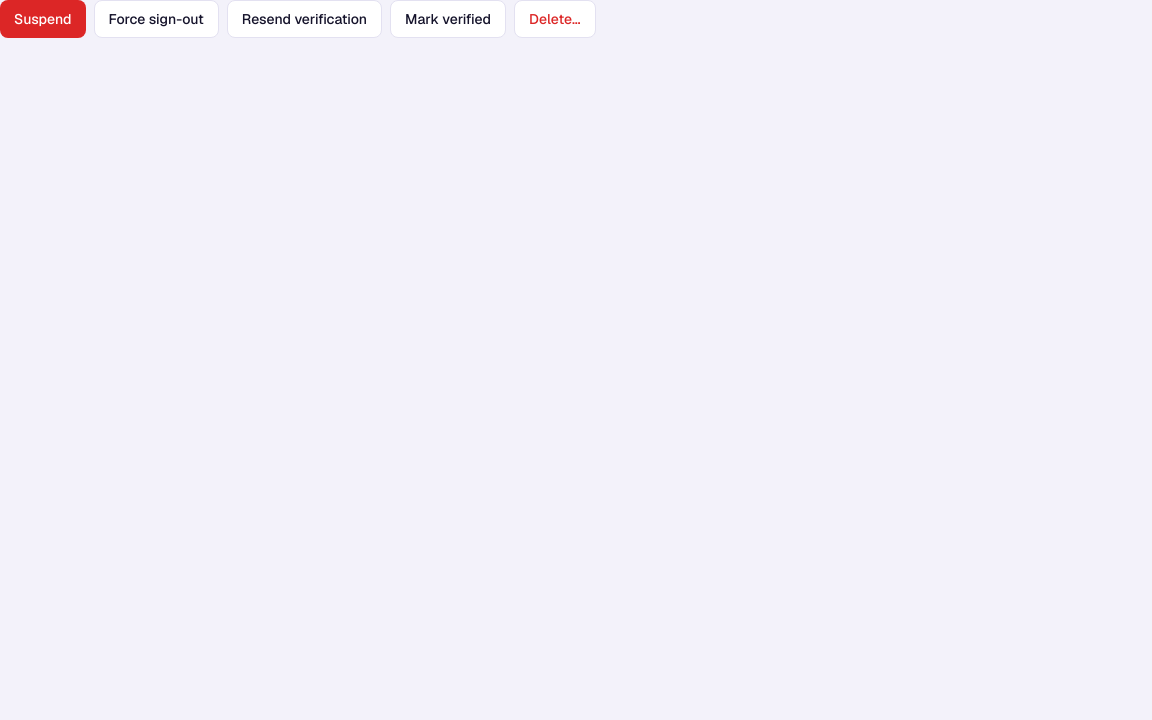
user actions › suspending needs a reason, which is sent with the request
The width and height of the screenshot is (1152, 720).
Click the button "Suspend".
click(43, 19)  # box [0,0,86,38]
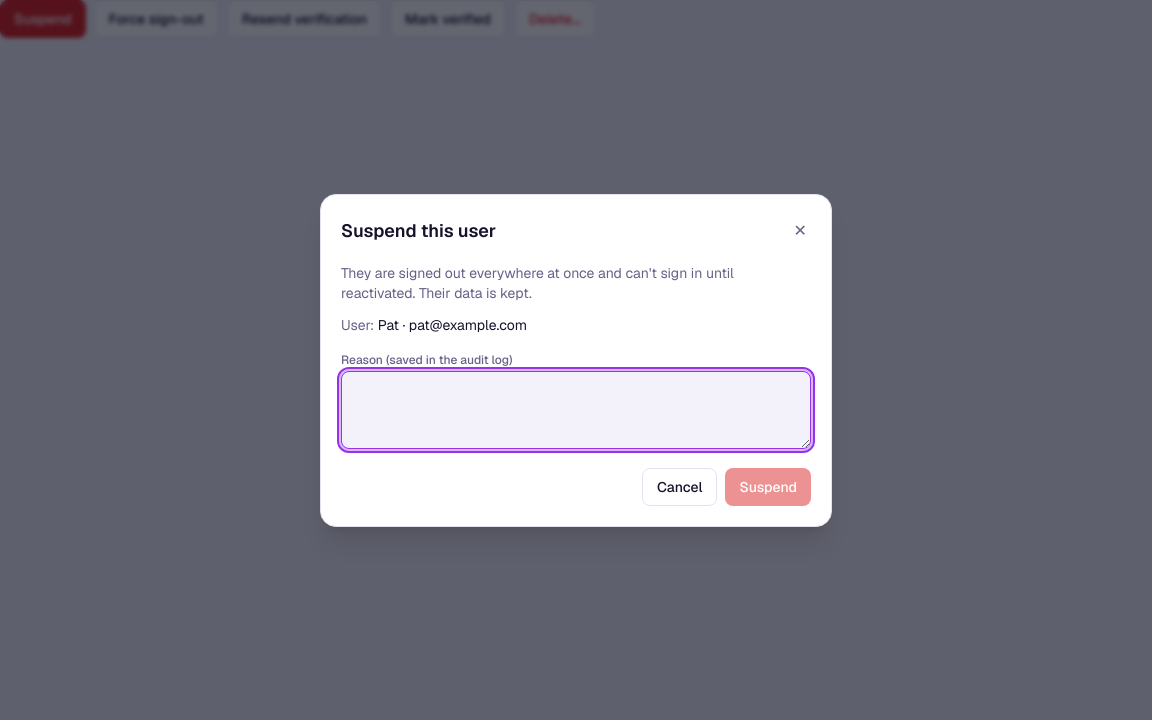
expect the button "Suspend" below "Reason (saved in the audit log)" is disabled: met, box [726,468,811,506]
Type "  chargeback fraud  " into the text box labelled "Reason (saved in the audit log)".
click(576, 410); type("  chargeback fraud  ")  # box [341,370,811,448]
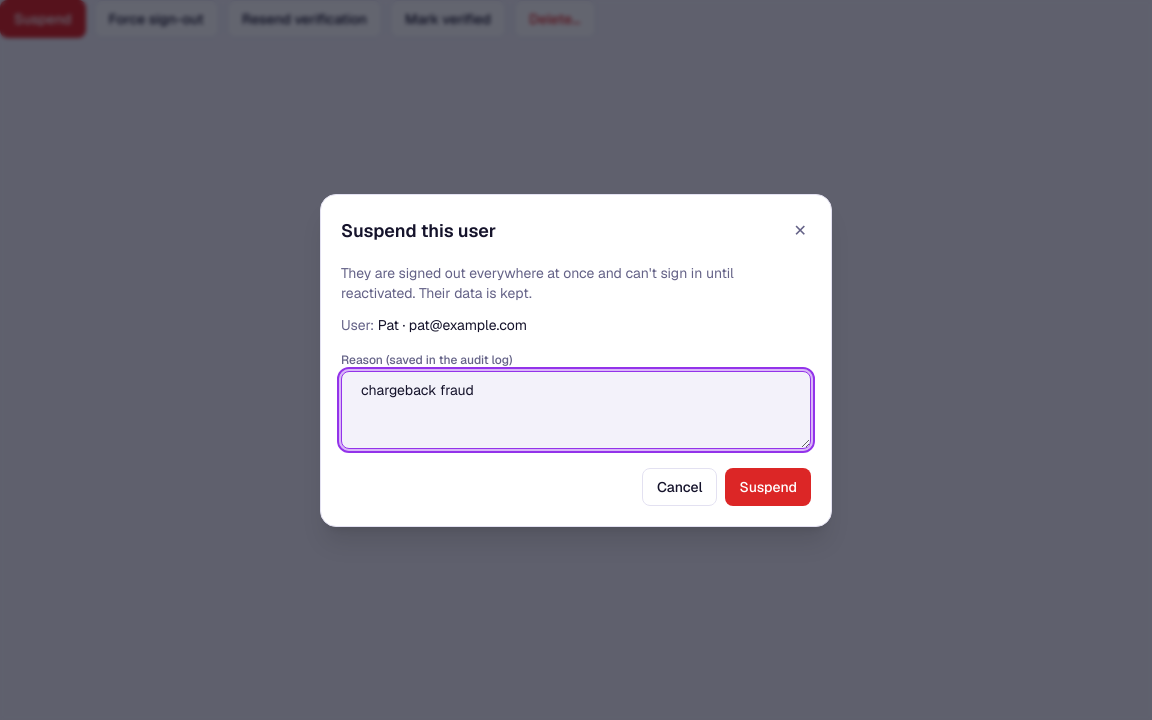
Click the button "Suspend" below "Reason (saved in the audit log)".
click(768, 486)  # box [726,468,811,506]
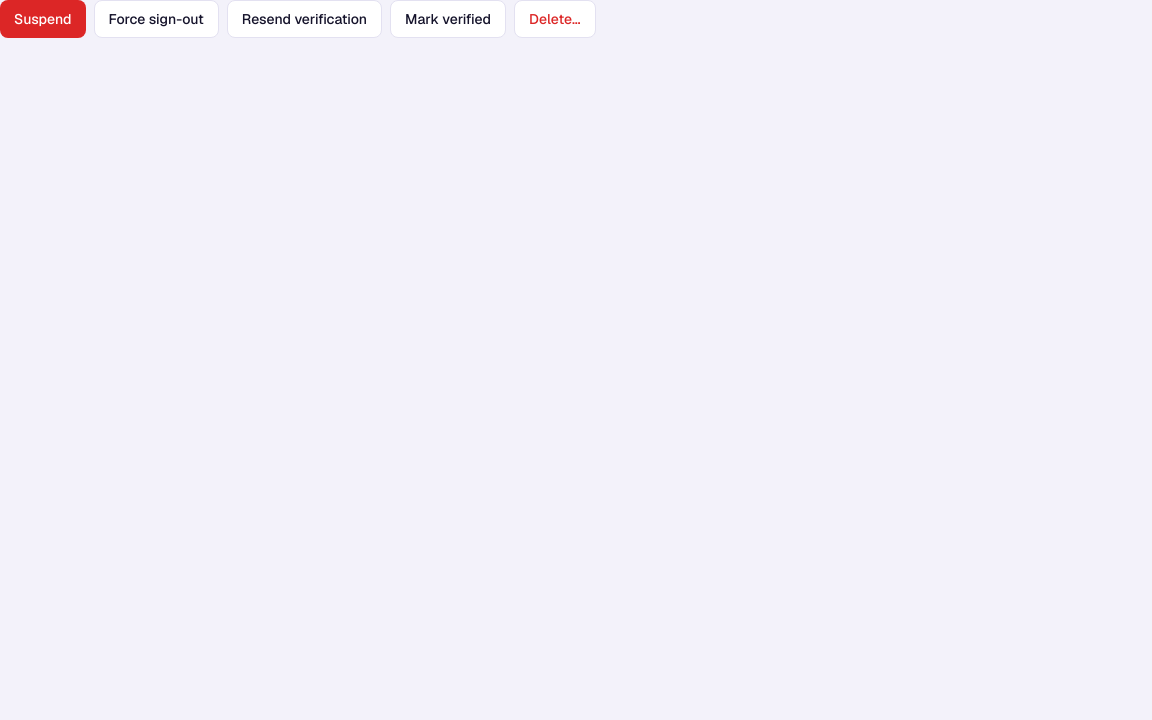
expect the dialog is gone: met
